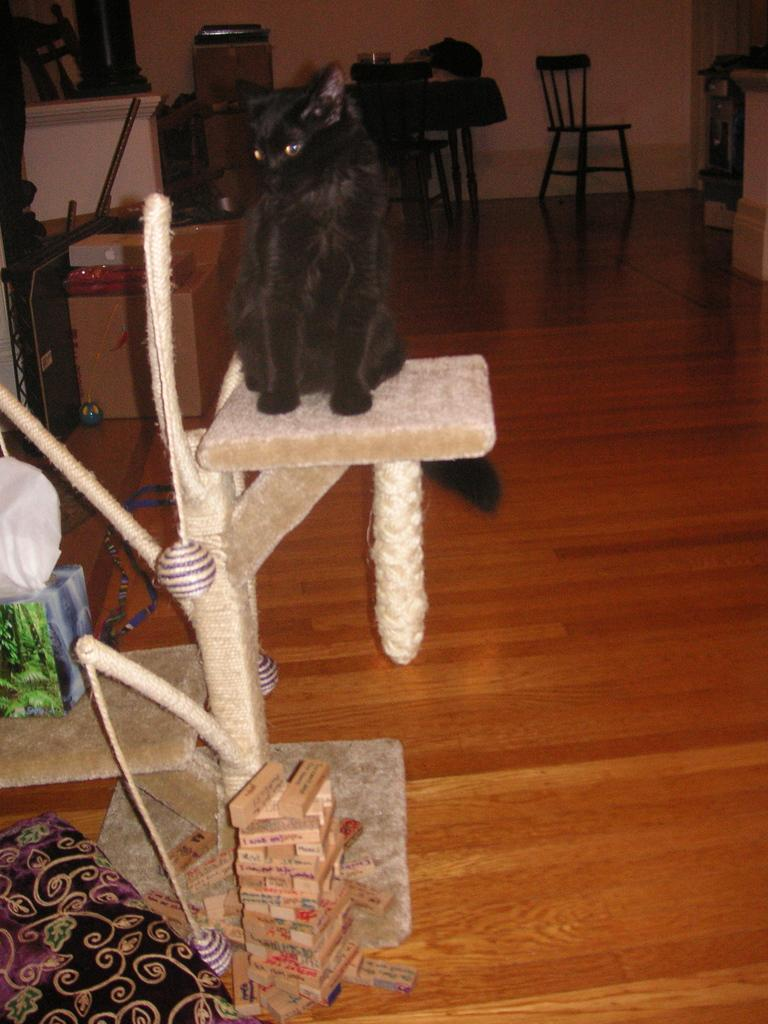Chair: (527, 33, 650, 237)
